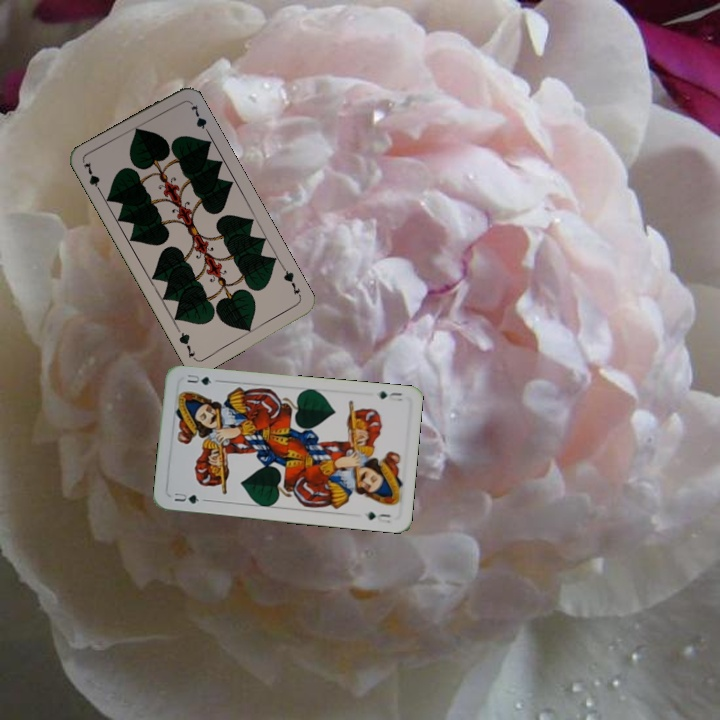G7: (79, 158, 105, 197), (279, 264, 304, 301)
GU: (170, 489, 208, 506), (375, 387, 405, 404)
